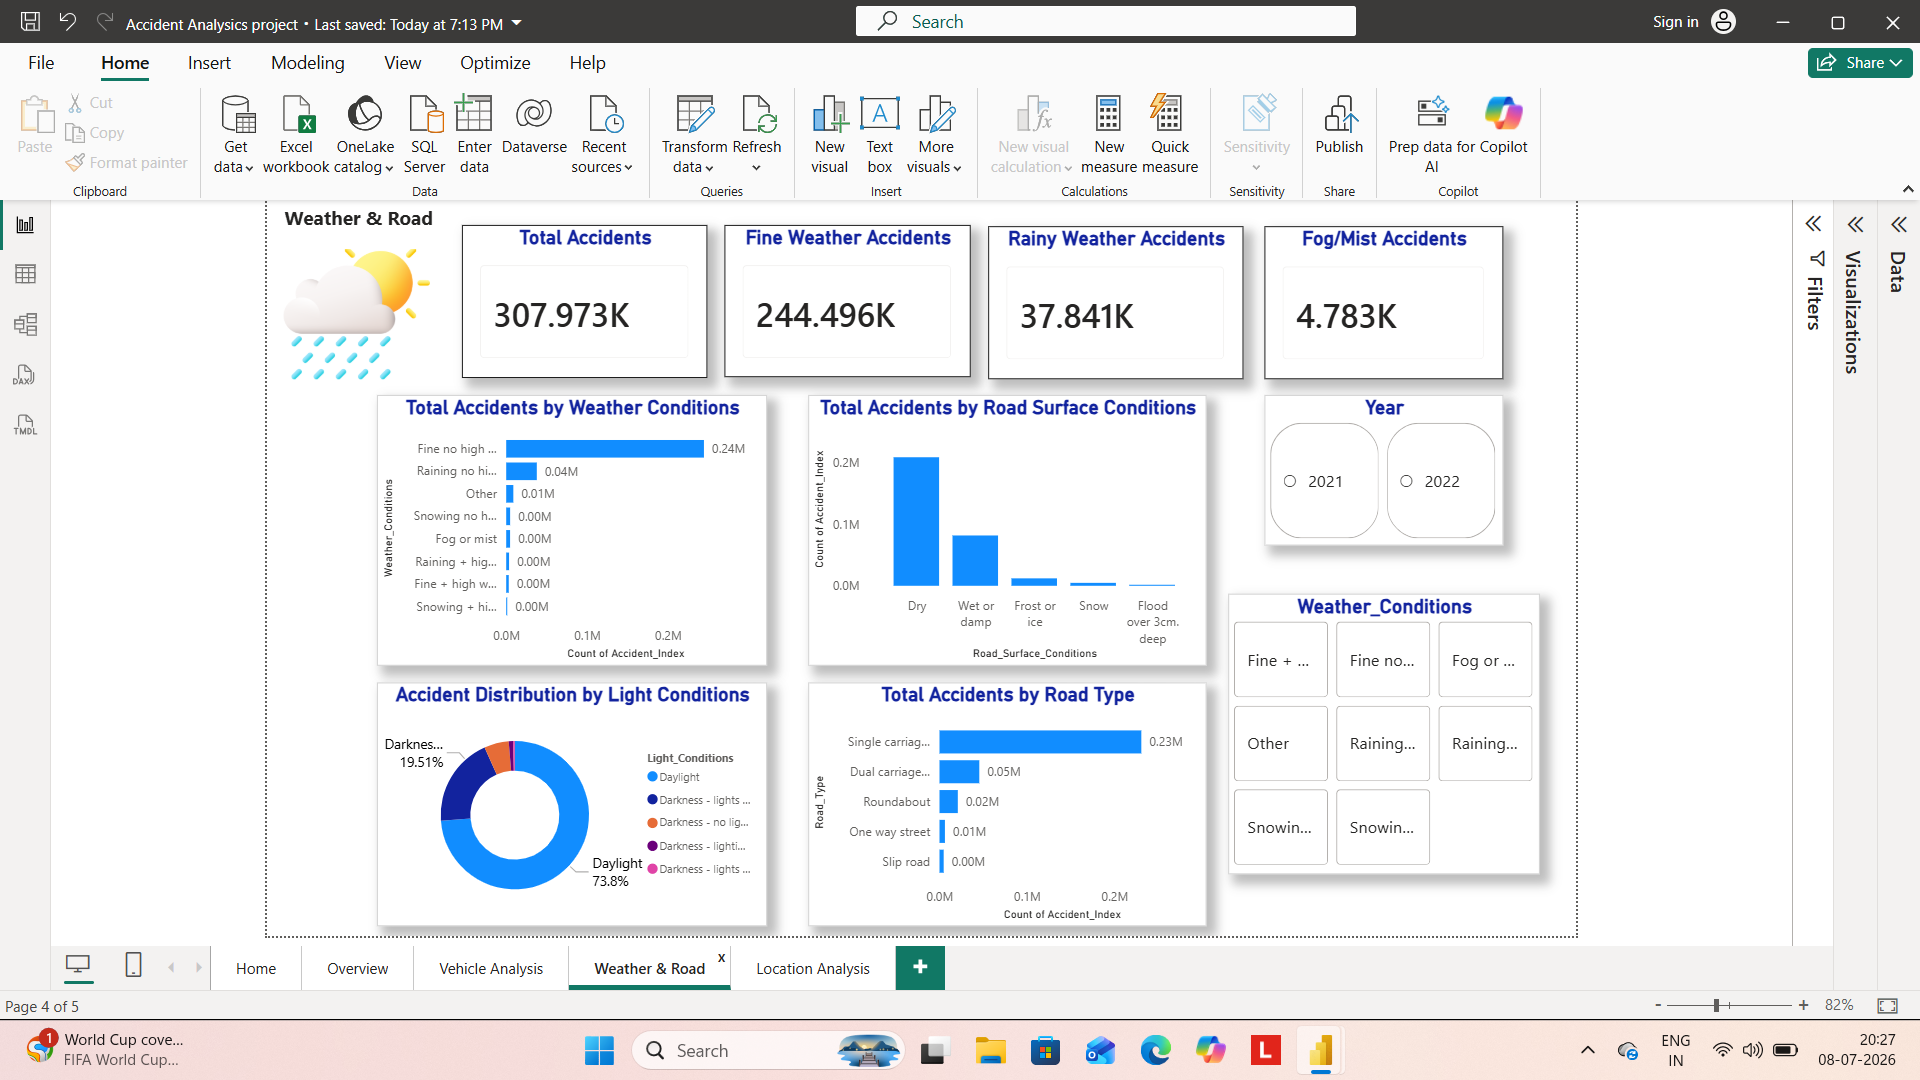

Layout of this report page (visuals, bound fields, positions):
{"tool":"powerbi","page":{"name":"Weather & Road","canvas":[1280,720],"ordinal":3},"visuals":[{"type":"image","box":[12.3,32.9,150.9,142.7],"z":0},{"type":"textbox","box":[12.2,0,207.9,47.7],"z":1000},{"type":"cardVisual","title":"Total Accidents","fields":{"Data":["CountNonNull(Road Accident Data.Accident_Index)"]},"box":[190.7,24.7,240.1,149.6],"z":2000},{"type":"cardVisual","title":"Fine  Weather Accidents","fields":{"Data":["CountNonNull(Road Accident Data.Accident_Index)"]},"box":[447.6,24.5,240.9,149.2],"z":3000},{"type":"cardVisual","title":"Rainy Weather Accidents","fields":{"Data":["CountNonNull(Road Accident Data.Accident_Index)"]},"box":[705.3,26.1,249.7,149.6],"z":4000},{"type":"cardVisual","title":"Fog/Mist Accidents","fields":{"Data":["CountNonNull(Road Accident Data.Accident_Index)"]},"box":[975.6,26.1,233.3,149.6],"z":5000},{"type":"clusteredBarChart","title":"Total Accidents by Weather Conditions","fields":{"Category":["Road Accident Data.Weather_Conditions"],"Y":["CountNonNull(Road Accident Data.Accident_Index)"]},"box":[107,190.7,381.5,264.8],"z":6000},{"type":"clusteredColumnChart","title":"Total Accidents by Road Surface Conditions","fields":{"Category":["Road Accident Data.Road_Surface_Conditions"],"Y":["CountNonNull(Road Accident Data.Accident_Index)"]},"box":[529.7,190.7,389.7,264.8],"z":7000},{"type":"donutChart","title":"Accident Distribution by Light Conditions","fields":{"Category":["Road Accident Data.Light_Conditions"],"Y":["CountNonNull(Road Accident Data.Accident_Index)"]},"box":[107,472,381.5,238.8],"z":8000},{"type":"clusteredBarChart","title":"Total Accidents by Road Type","fields":{"Category":["Road Accident Data.Road_Type"],"Y":["CountNonNull(Road Accident Data.Accident_Index)"]},"box":[529.7,472,389.7,238.8],"z":9000},{"type":"advancedSlicerVisual","fields":{"Values":["Road Accident Data.Accident Date.Variation.Date Hierarchy.Year"]},"box":[975.8,190.8,233.6,146.7],"z":10000},{"type":"advancedSlicerVisual","fields":{"Values":["Road Accident Data.Weather_Conditions"]},"box":[940,385.6,304.6,274.4],"z":11000}]}

Visuals, with their boxes on the page's 1280x720 design canvas (x1, y1, x2, y2). These are canvas units, not pixel positions in the 1920x1080 screenshot, which may show the page scaled, cropped or inside an application window:
image: 12,33,163,176
textbox: 12,0,220,48
"Total Accidents" cardVisual: 191,25,431,174
"Fine  Weather Accidents" cardVisual: 448,24,688,174
"Rainy Weather Accidents" cardVisual: 705,26,955,176
"Fog/Mist Accidents" cardVisual: 976,26,1209,176
"Total Accidents by Weather Conditions" clusteredBarChart: 107,191,488,456
"Total Accidents by Road Surface Conditions" clusteredColumnChart: 530,191,919,456
"Accident Distribution by Light Conditions" donutChart: 107,472,488,711
"Total Accidents by Road Type" clusteredBarChart: 530,472,919,711
advancedSlicerVisual - Road Accident Data.Accident Date.Variation.Date Hierarchy.Year: 976,191,1209,338
advancedSlicerVisual - Road Accident Data.Weather_Conditions: 940,386,1245,660
